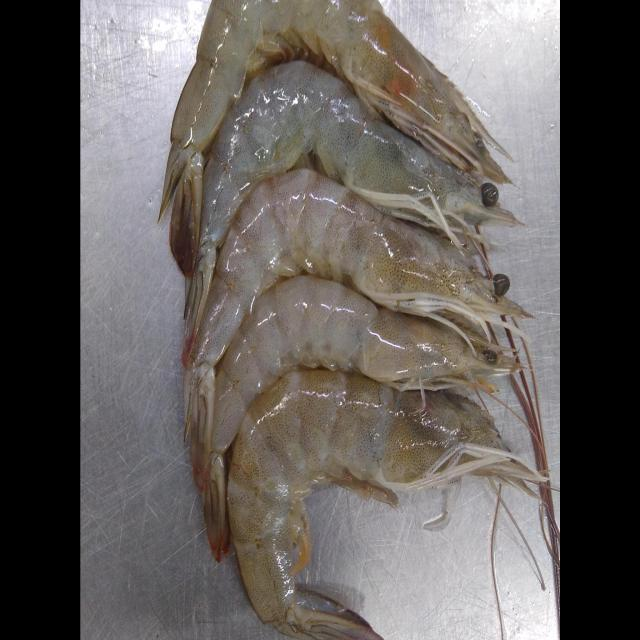shrimp: (227, 370, 546, 640), (160, 0, 511, 217), (191, 169, 532, 366), (199, 60, 521, 246), (211, 276, 521, 454)
